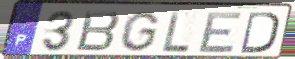3: (39, 9, 77, 53)
B: (74, 10, 123, 53)
D: (239, 10, 281, 54)
E: (196, 10, 245, 54)
G: (118, 10, 162, 53)
L: (161, 10, 191, 54)
